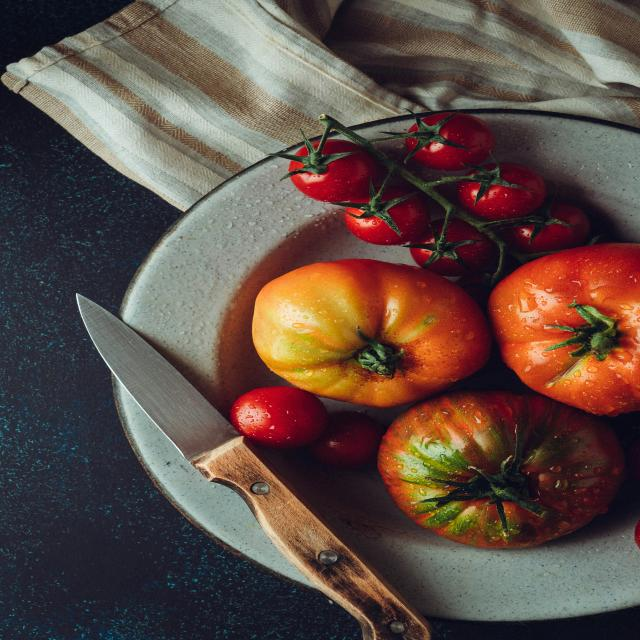knife: (77, 293, 434, 639)
